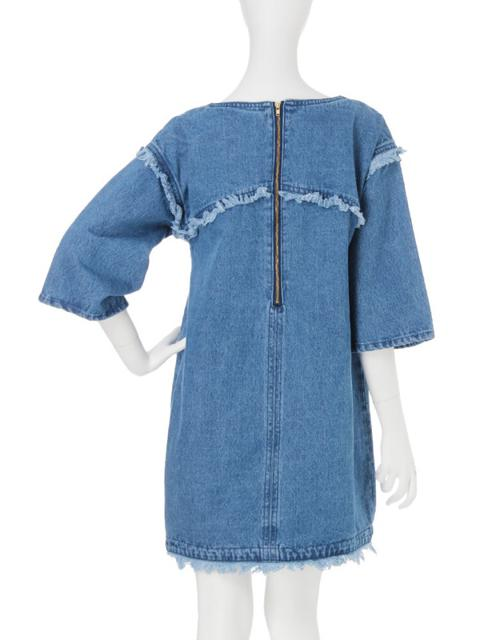Dresses: (38, 95, 436, 570)
